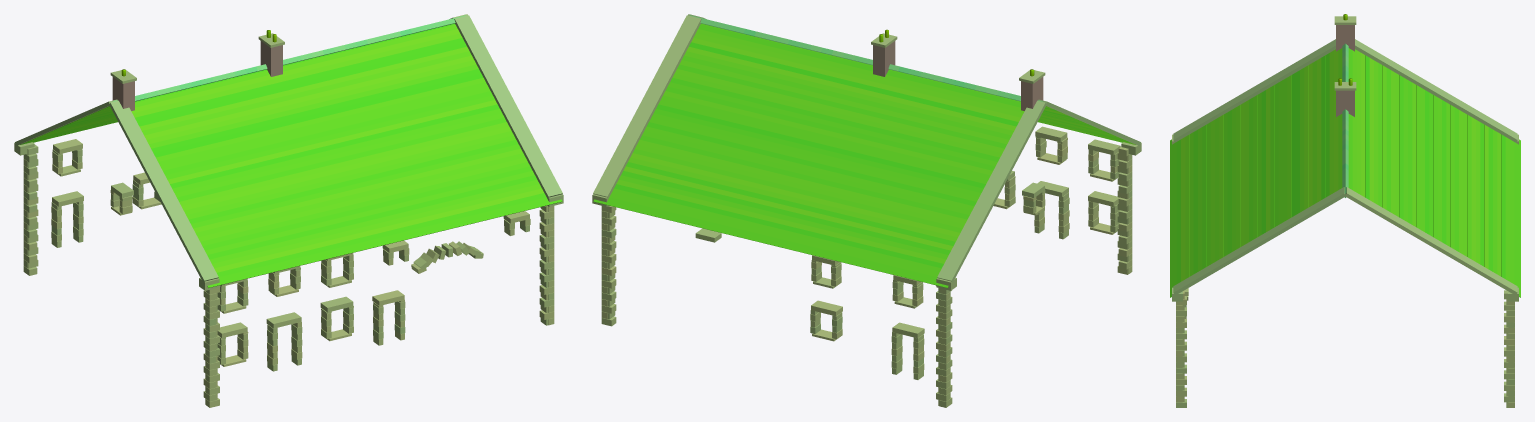
Rendered from SM_Bld_187_Stone.glb.
The picture shows the model from 3 angles, left to right: view 1: azimuth 30°, elevation 25°; view 2: azimuth 150°, elevation 25°; view 3: azimuth 270°, elevation 25°; orthographic projection. The views are drawn at different scales.
Parts seen in each view (by area): view 1: SM_Bld_187_Stone; view 2: SM_Bld_187_Stone; view 3: SM_Bld_187_Stone.
Boxes of the visible parts, x1,y1,x2,y2 form: SM_Bld_187_Stone: (14, 14, 563, 407); SM_Bld_187_Stone: (592, 14, 1141, 407); SM_Bld_187_Stone: (1170, 14, 1520, 407).
Bounding box in the file's own units: 17.89 × 12.84 × 16.68.
